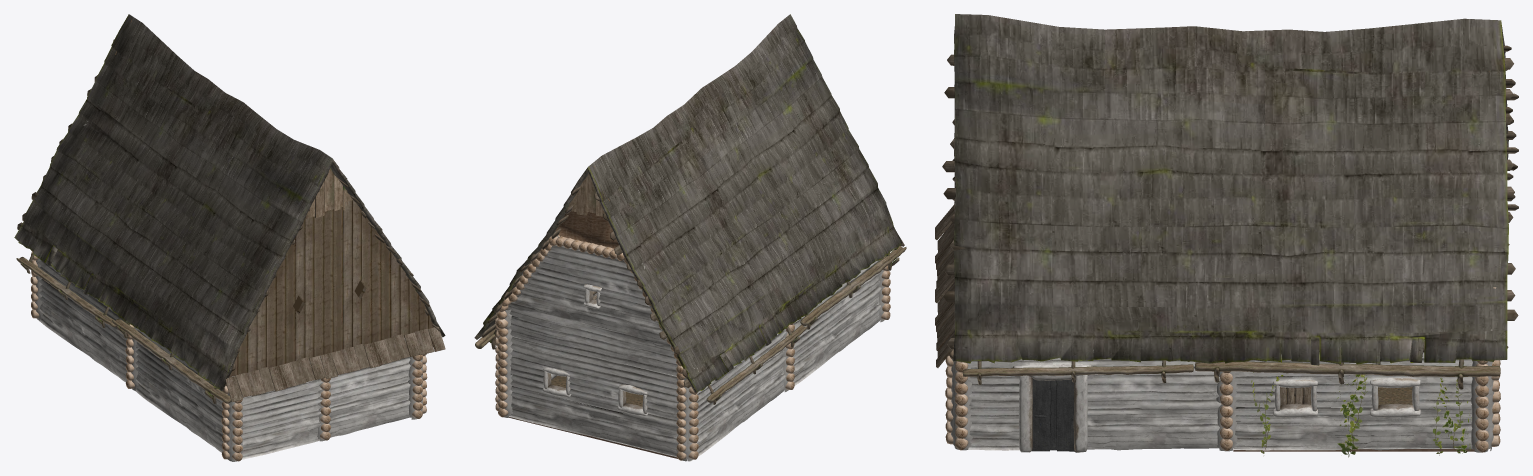
File: level2.glb
3 renders of one model, left to right at view 1: azimuth 30°, elevation 25°; view 2: azimuth 150°, elevation 25°; view 3: azimuth 270°, elevation 25°, orthographic. The views are drawn at different scales.
Visible parts, largest first — view 1: medieval_house; view 2: medieval_house; view 3: medieval_house, dvere_vchodove.
Boxes of the visible parts, x1,y1,x2,y2 form: medieval_house: (14, 14, 445, 461); medieval_house: (474, 14, 906, 461); medieval_house: (935, 14, 1518, 457); dvere_vchodove: (1031, 378, 1078, 452).
Bounding box in the file's own units: 10.37 × 11.69 × 16.03.
21 materials, 21 textured.
